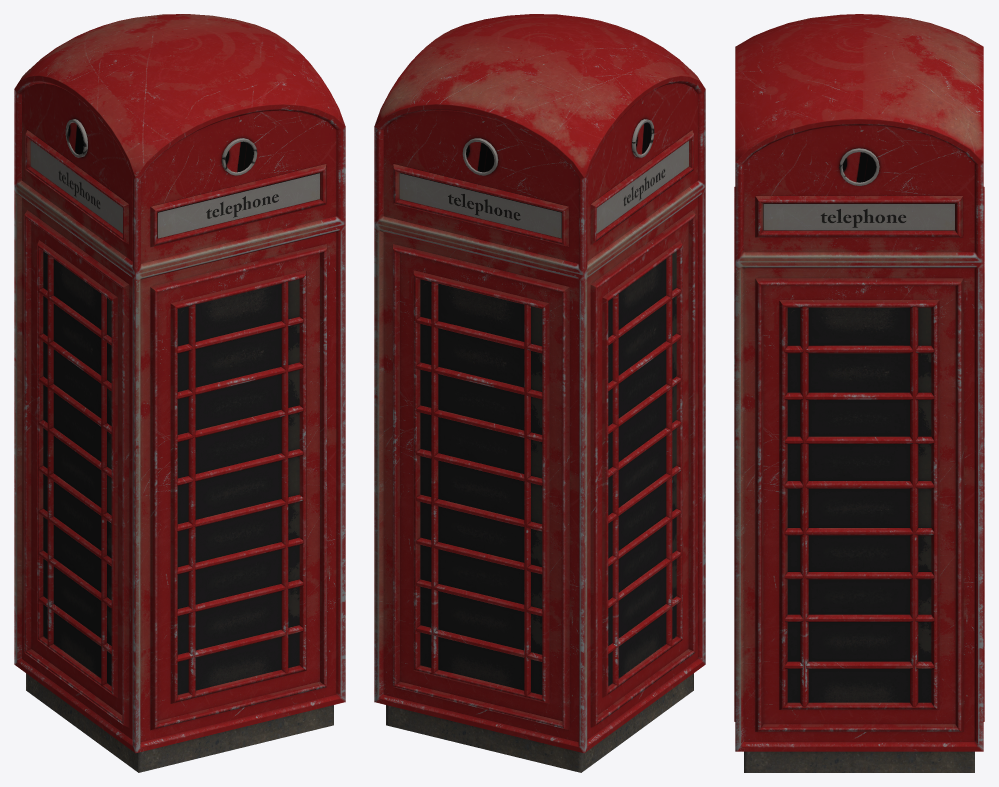
File: SM_PhoneBooth.FBX
3 views of the same model, side by side, from view 1: azimuth 30°, elevation 25°; view 2: azimuth 150°, elevation 25°; view 3: azimuth 270°, elevation 25° (orthographic). The views are drawn at different scales.
Parts seen in each view (by area): view 1: SM_PhoneBooth; view 2: SM_PhoneBooth; view 3: SM_PhoneBooth.
Part boxes in pixels (<box>): SM_PhoneBooth: <box>14,14,345,772</box>; SM_PhoneBooth: <box>374,14,705,772</box>; SM_PhoneBooth: <box>734,14,984,772</box>.
Size of the model in its own units: 101 by 101 by 303.
